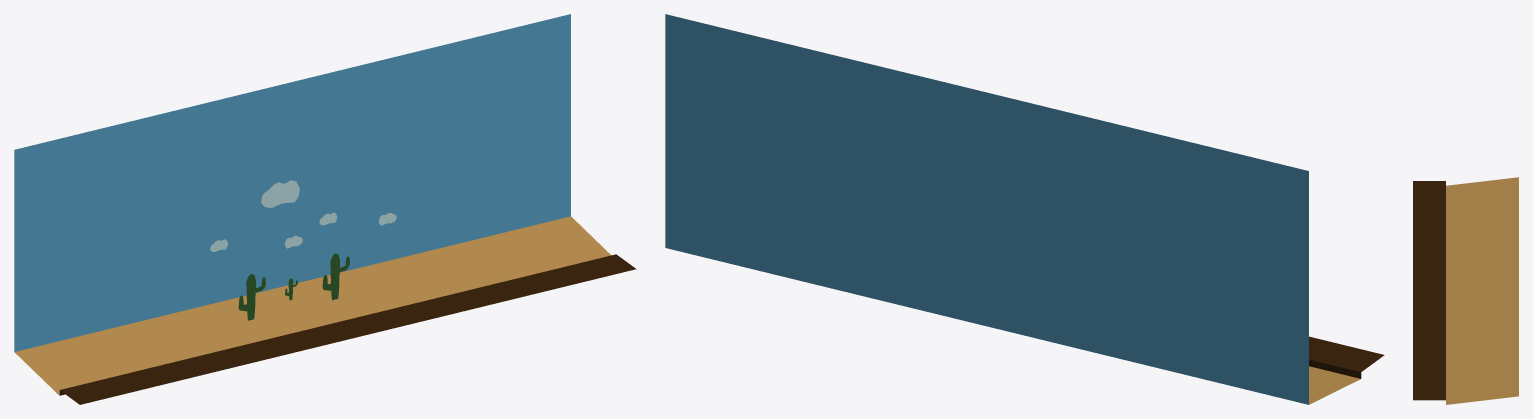
File: Outside_Door_Big.fbx
3 renders of one model, left to right at view 1: azimuth 30°, elevation 25°; view 2: azimuth 150°, elevation 25°; view 3: azimuth 270°, elevation 25°, orthographic. The views are drawn at different scales.
Parts seen in each view (by area): view 1: Outside_Door; view 2: Outside_Door; view 3: Outside_Door.
Boxes of the visible parts, left/top/right/bottom form: Outside_Door: left=14, top=14, right=636, bottom=404; Outside_Door: left=665, top=14, right=1384, bottom=404; Outside_Door: left=1413, top=177, right=1518, bottom=404.
Bounding box in the file's own units: 1668 × 610 × 341.
